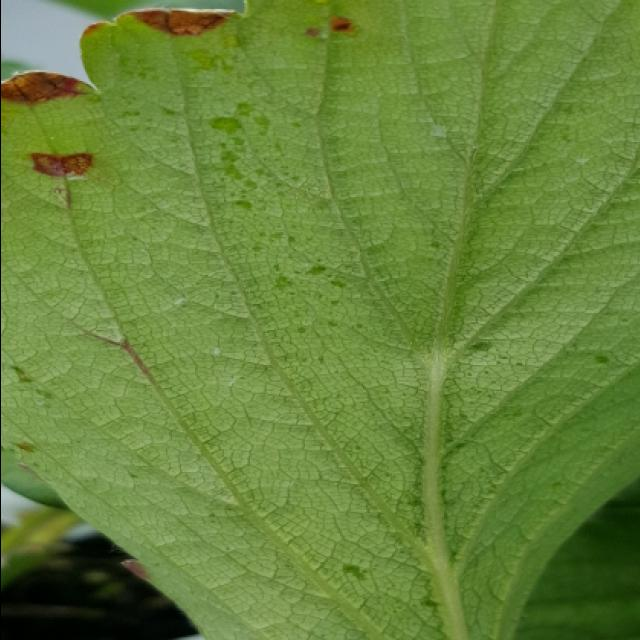Angular Leafspot: (2, 25, 619, 618)
